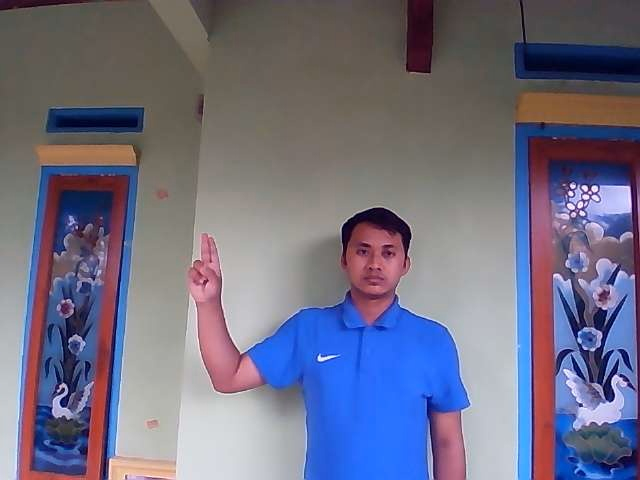U: (184, 232, 222, 301)
